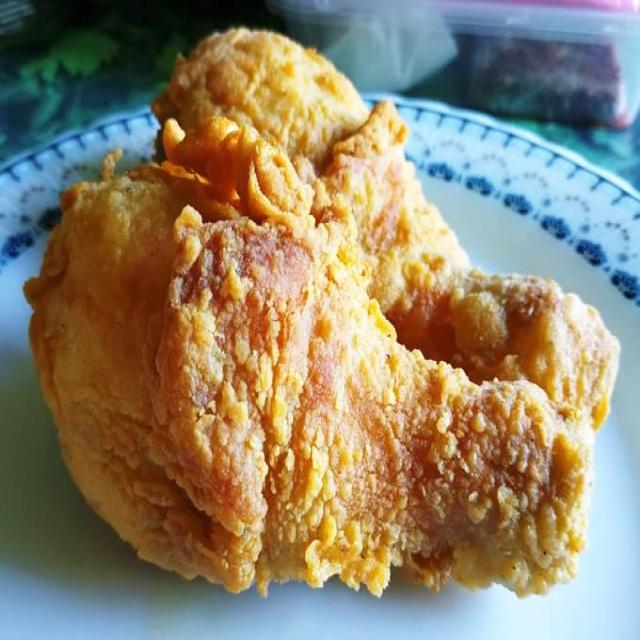fried_chicken: (27, 161, 594, 596), (163, 22, 620, 429)
